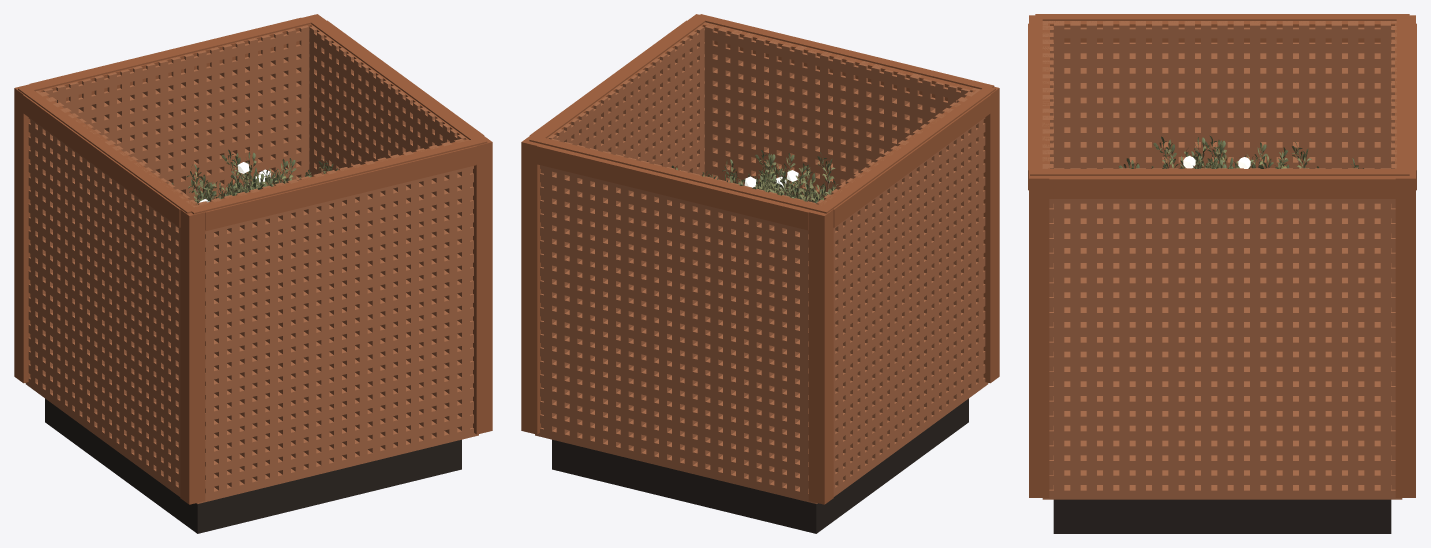
Rendered from winter.glb.
3 views of the same model, side by side, from view 1: azimuth 30°, elevation 25°; view 2: azimuth 150°, elevation 25°; view 3: azimuth 270°, elevation 25° (orthographic). The views are drawn at different scales.
Parts seen in each view (by area): view 1: Winter_Jali, Winter_Frame, Winter_Plinth, Winter_TopBand, WinterPlant_7, WinterPlant_4; view 2: Winter_Jali, Winter_Frame, Winter_Plinth, Winter_TopBand, WinterPlant_10; view 3: Winter_Jali, Winter_Frame, Winter_Plinth, Winter_TopBand, WinterPlant_8, WinterPlant_9, WinterPlant_0.
Boxes of the visible parts, x1,y1,x2,y2 form: Winter_Jali: (25, 25, 478, 503); Winter_Frame: (14, 14, 492, 504); Winter_Plinth: (45, 398, 461, 533); Winter_TopBand: (18, 16, 487, 231); WinterPlant_7: (221, 149, 266, 195); WinterPlant_4: (168, 164, 241, 204); Winter_Jali: (535, 22, 988, 503); Winter_Frame: (521, 14, 999, 504); Winter_Plinth: (552, 398, 968, 533); Winter_TopBand: (529, 14, 995, 213); WinterPlant_10: (760, 152, 835, 202); Winter_Jali: (1042, 21, 1402, 499); Winter_Frame: (1028, 15, 1416, 497); Winter_Plinth: (1053, 499, 1391, 533); Winter_TopBand: (1030, 14, 1409, 175); WinterPlant_8: (1153, 136, 1223, 168); WinterPlant_9: (1232, 142, 1311, 168); WinterPlant_0: (1204, 136, 1233, 168).
Bounding box in the file's own units: 2.12 × 2.21 × 2.12.
Materials: 6 (1 with a texture image).
